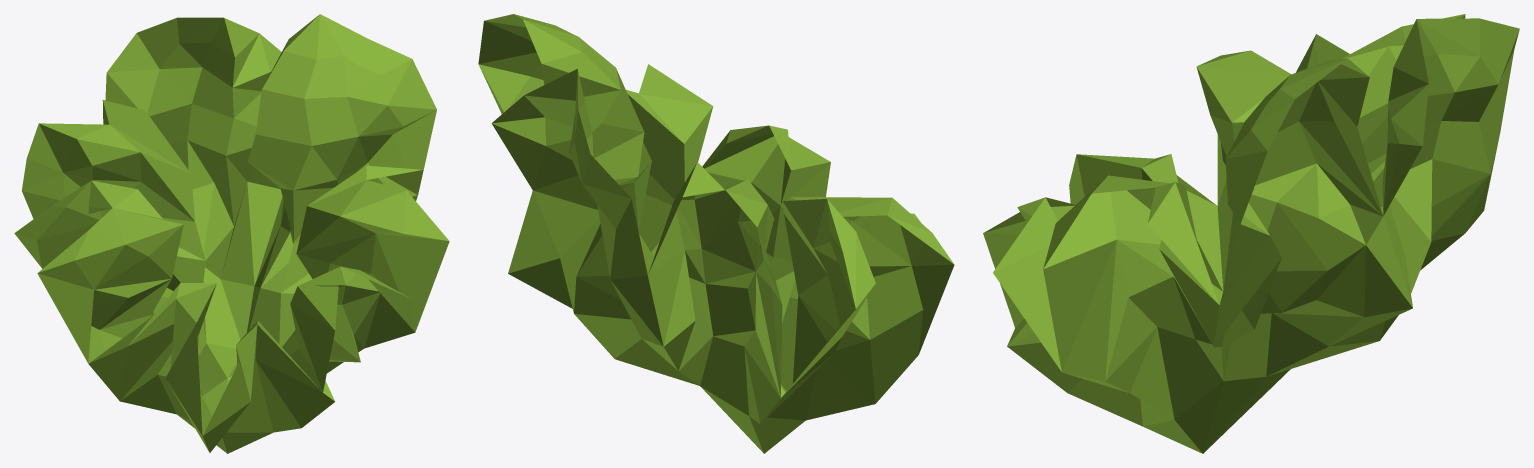
File: SM_Seaweed_Salad_Mature_A.fbx
3 renders of one model, left to right at view 1: azimuth 30°, elevation 25°; view 2: azimuth 150°, elevation 25°; view 3: azimuth 270°, elevation 25°, orthographic. The views are drawn at different scales.
Parts seen in each view (by area): view 1: seaweed-salad-mature-a; view 2: seaweed-salad-mature-a; view 3: seaweed-salad-mature-a.
Part boxes in pixels (bbox=[...]): seaweed-salad-mature-a: bbox=[14, 14, 449, 453]; seaweed-salad-mature-a: bbox=[478, 14, 954, 453]; seaweed-salad-mature-a: bbox=[983, 14, 1519, 453].
Size of the model in its own units: 1.33 by 1.16 by 1.15.
